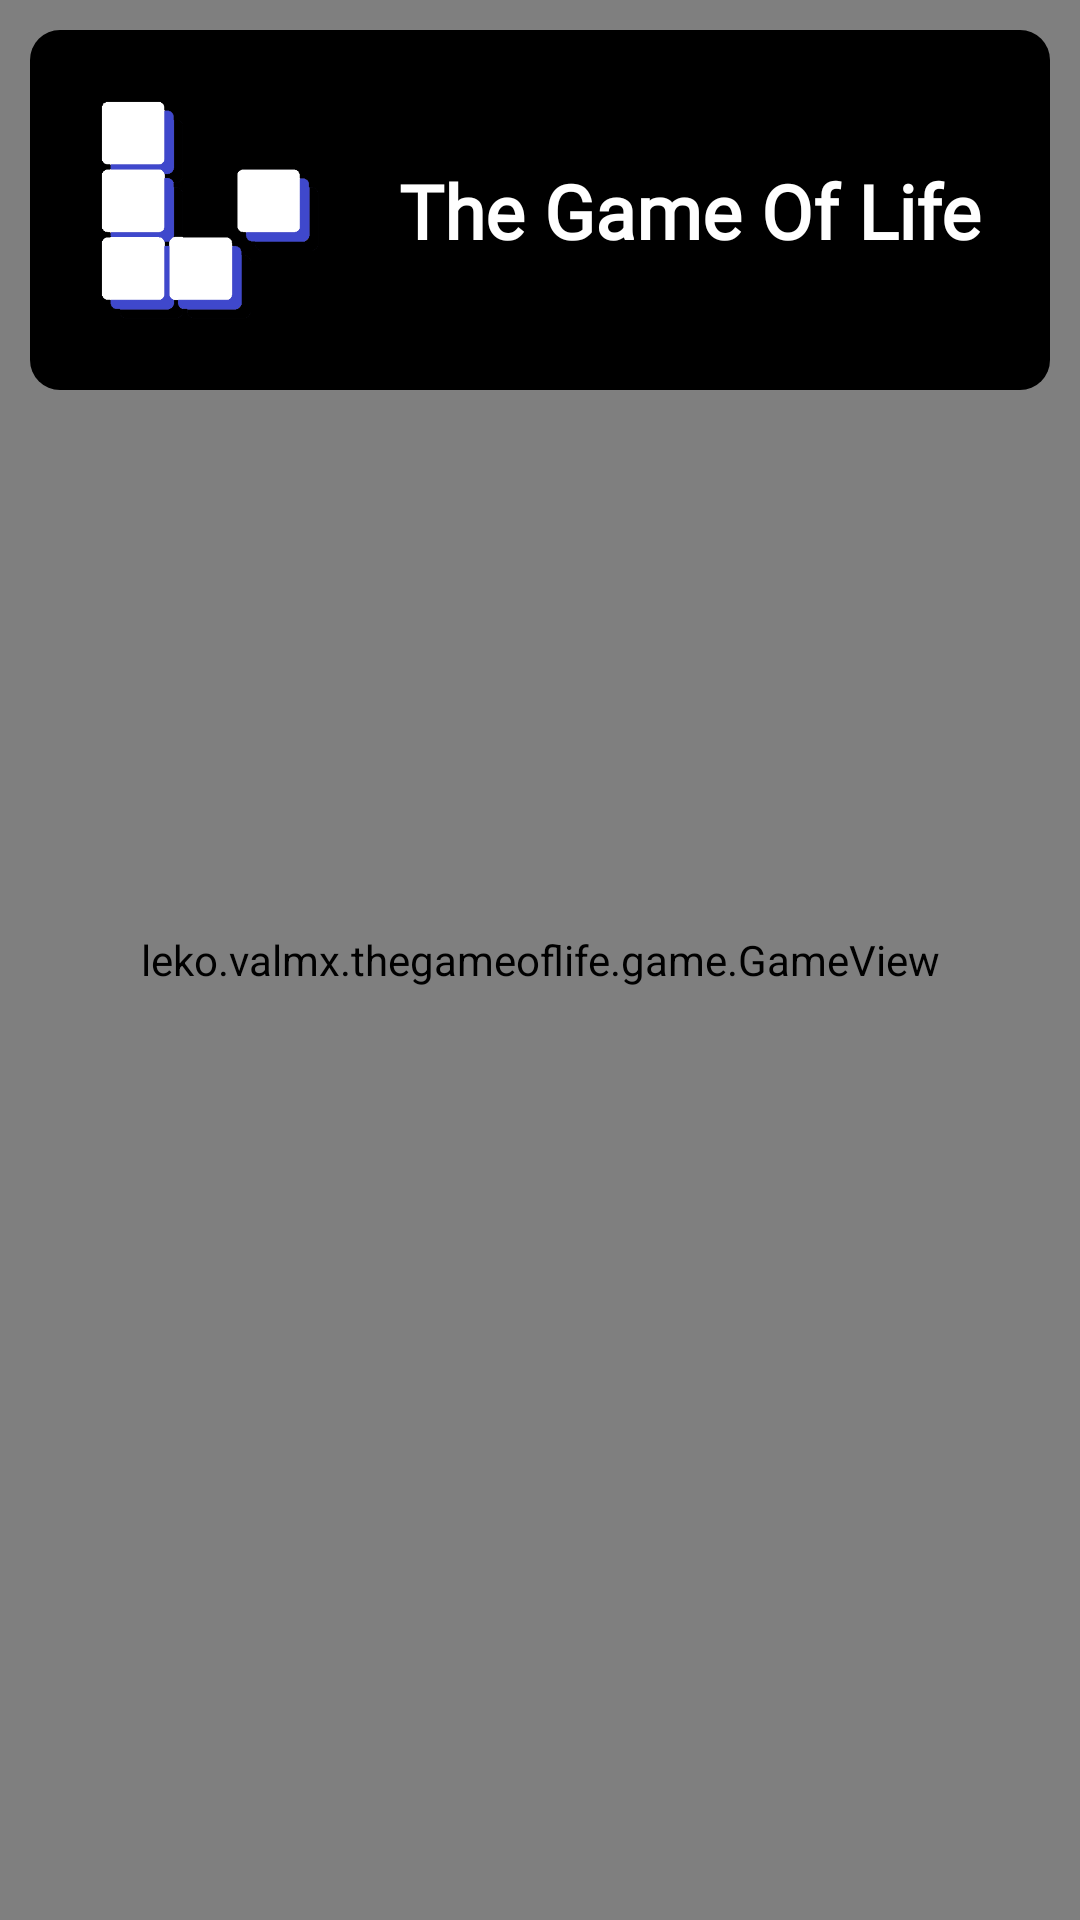

Icon bounding boxes for this 1080 x 1920 phone screenshot, format (x1, y1, x2, y2):
game od life: (102, 102, 310, 310)
